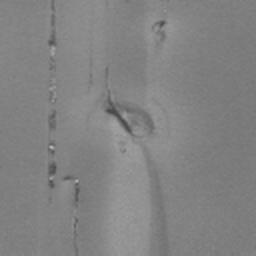Slag inclusion: (104, 78, 154, 136), (46, 160, 82, 210), (46, 0, 58, 49), (46, 109, 58, 131), (72, 214, 81, 242), (154, 20, 168, 32), (46, 141, 56, 156)
